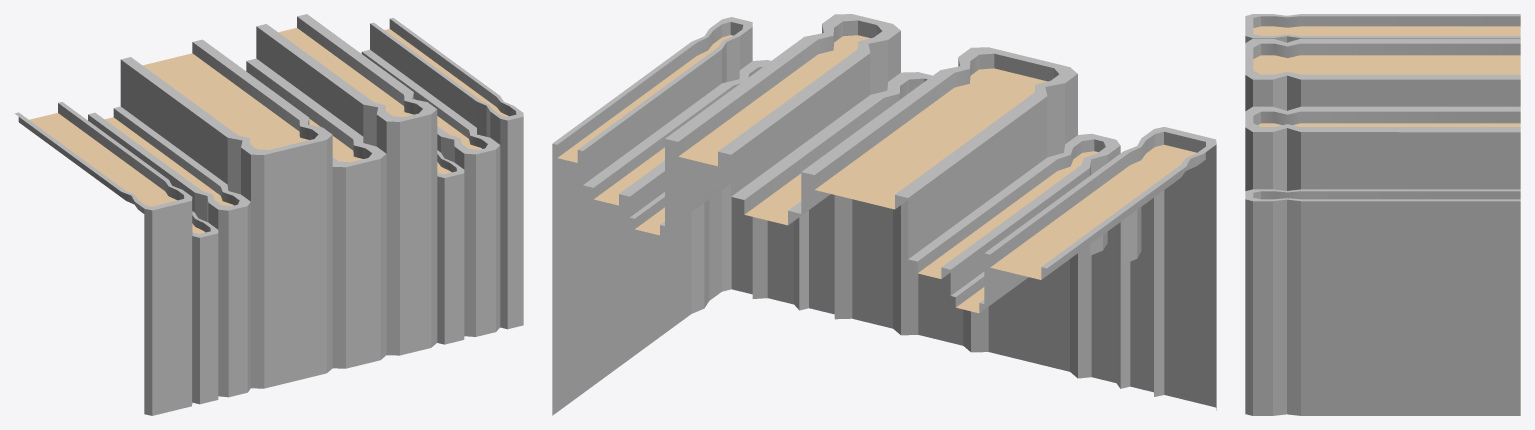
Rendered from prop_biblioteca_libros_hueco003_bis.fbx.
3 views of the same model, side by side, from view 1: azimuth 30°, elevation 25°; view 2: azimuth 150°, elevation 25°; view 3: azimuth 270°, elevation 25° (orthographic). The views are drawn at different scales.
Parts seen in each view (by area): view 1: prop_biblioteca_libros_hueco003_bis; view 2: prop_biblioteca_libros_hueco003_bis; view 3: prop_biblioteca_libros_hueco003_bis.
Part boxes in pixels (x1=…): prop_biblioteca_libros_hueco003_bis: x1=14, y1=14, x2=523, y2=415; prop_biblioteca_libros_hueco003_bis: x1=552, y1=14, x2=1216, y2=415; prop_biblioteca_libros_hueco003_bis: x1=1245, y1=14, x2=1520, y2=415.
Bounding box in the file's own units: 58.94 × 34.7 × 36.04.
